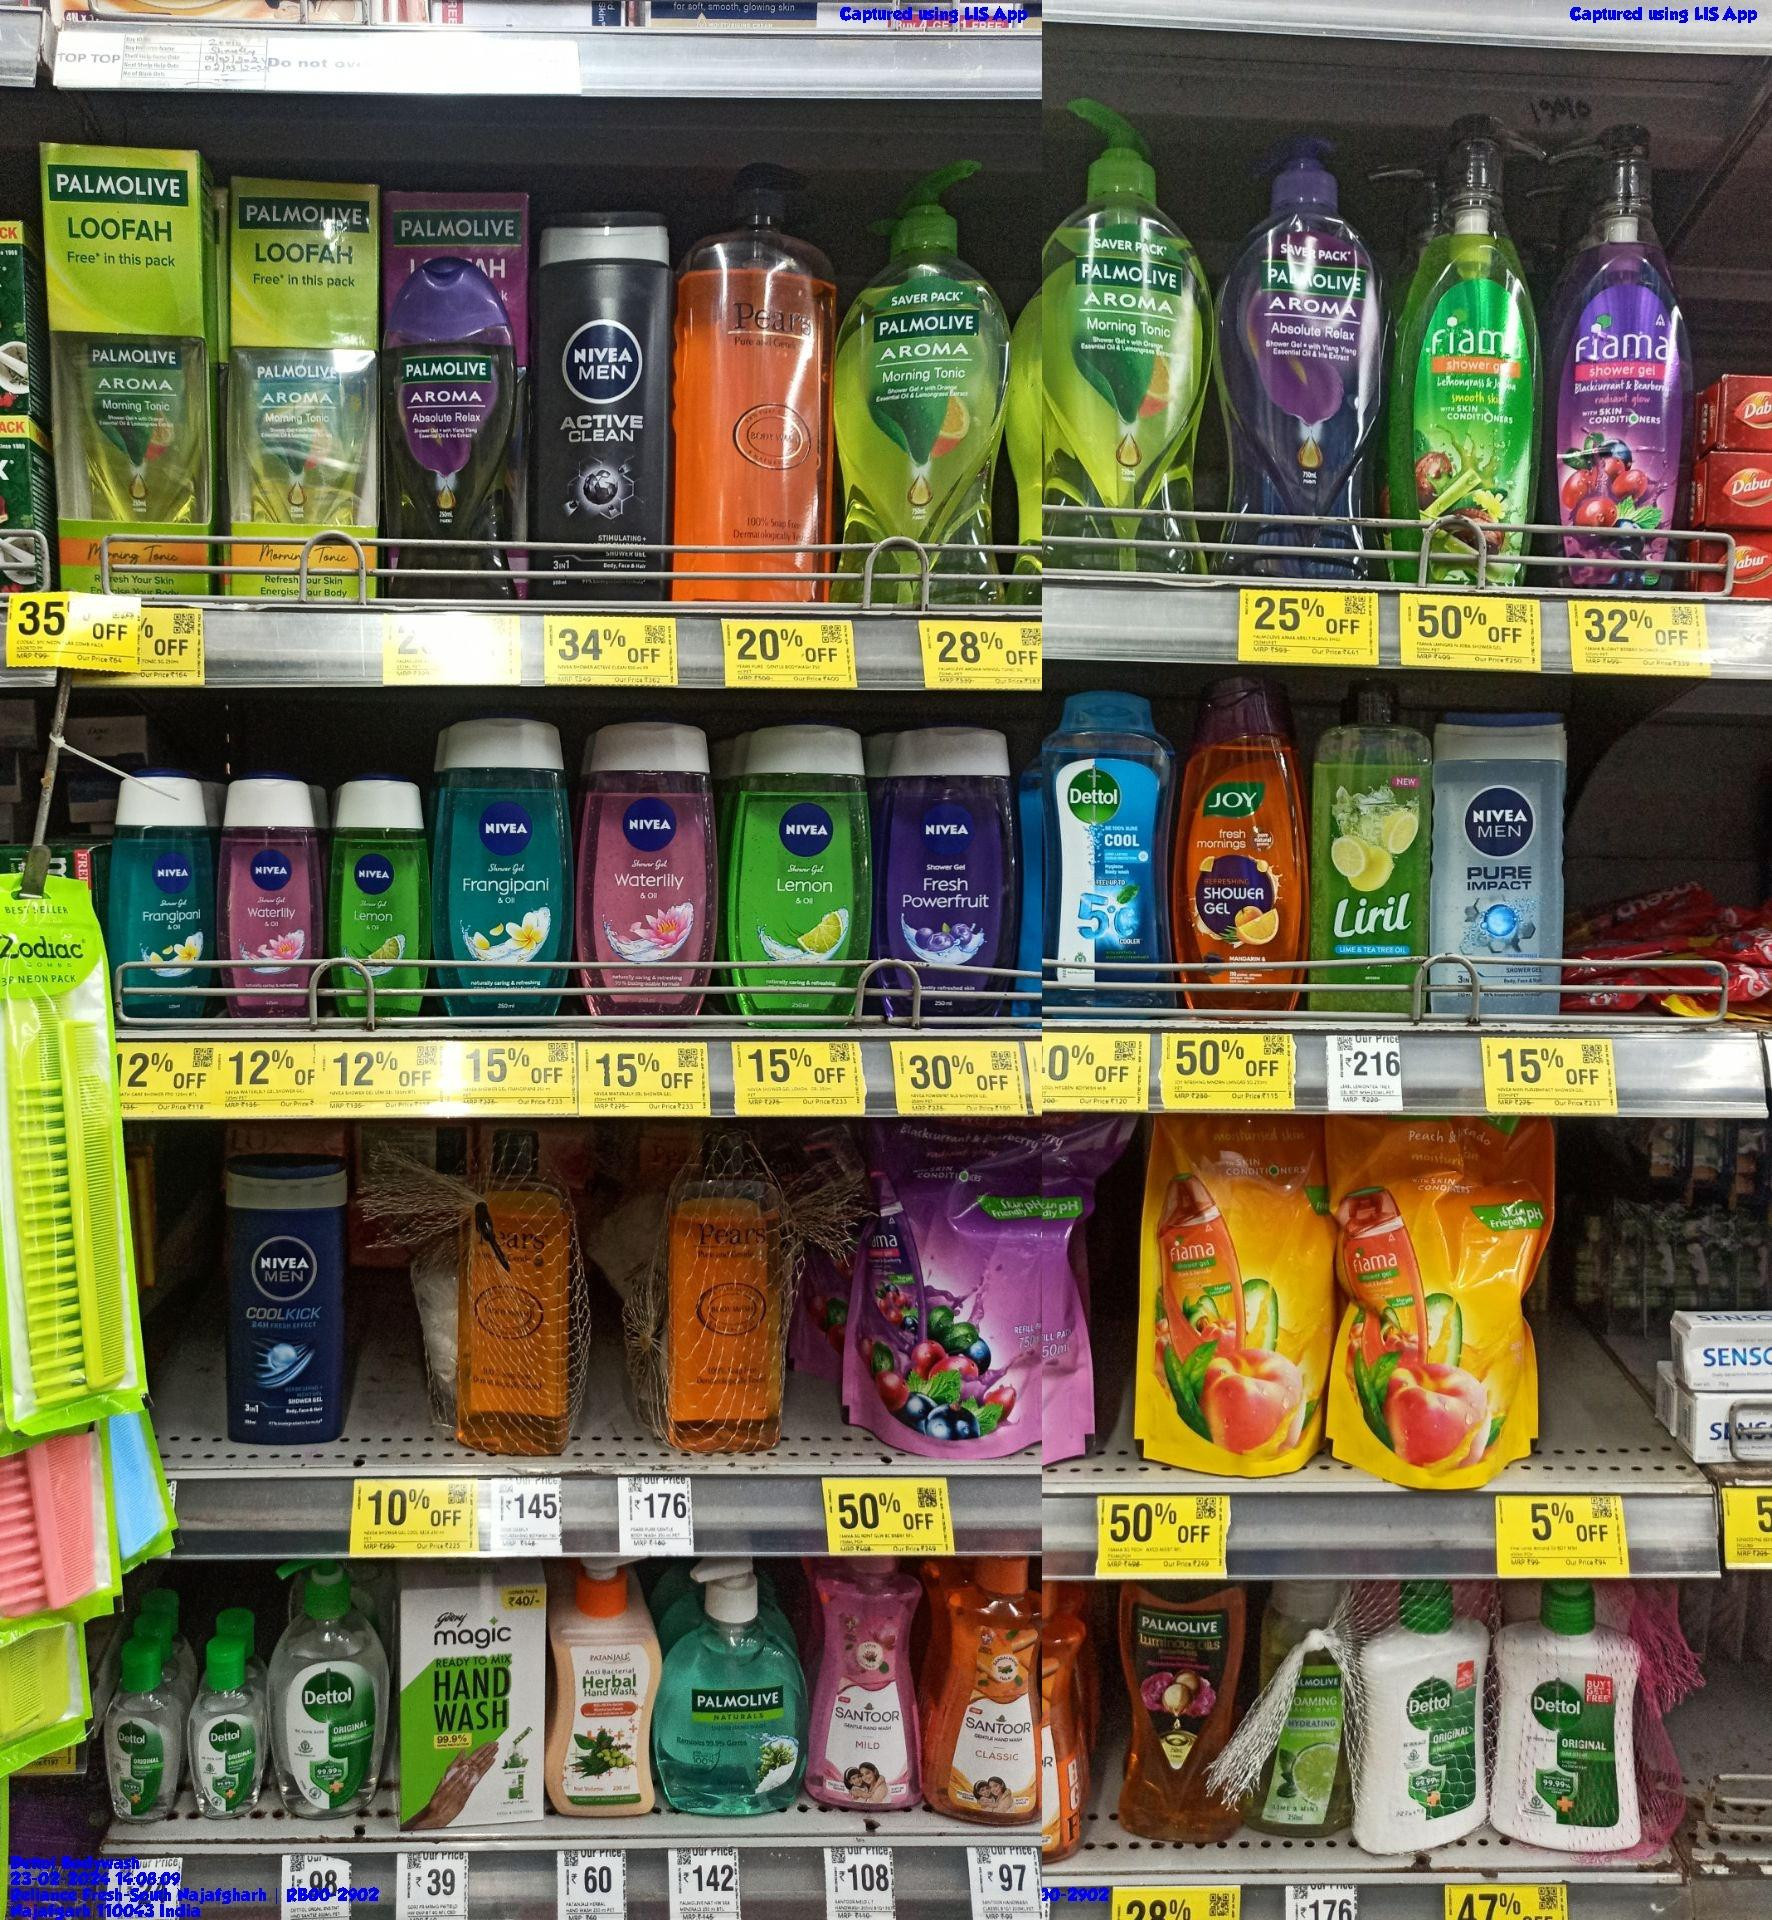Dettol_Bodywash_Cool: (1048, 687, 1174, 1014)
Joy_Shower_Gel_Mandarin_and_Lemongrass_250ML: (1179, 671, 1307, 1014)
Liril_Lime_and_Tea_Tree_Oil_Body_Wash_250ML: (1307, 679, 1431, 1017)
Nivea_Shower_Gel_Frangipani_and_Oil_250ML: (441, 716, 565, 1019)
Nivea_Shower_Gel_Fresh_Powerfruit_250ML: (886, 729, 1011, 1010)
Nivea_Shower_Gel_Lemon_and_Oil_250ML: (731, 726, 864, 1025)
Nivea_Shower_Gel_Waterlily_and_Oil_250ML: (575, 729, 707, 1020)
Palmolive_Luminous_Oils_Invigorating_Macadamia_Oil_With_Peony_250ML: (1125, 1579, 1242, 1838)
